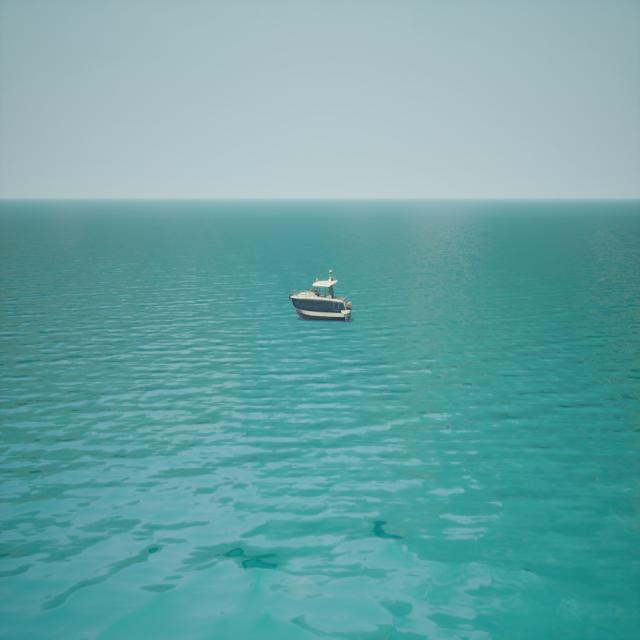ship: (288, 267, 353, 320)
